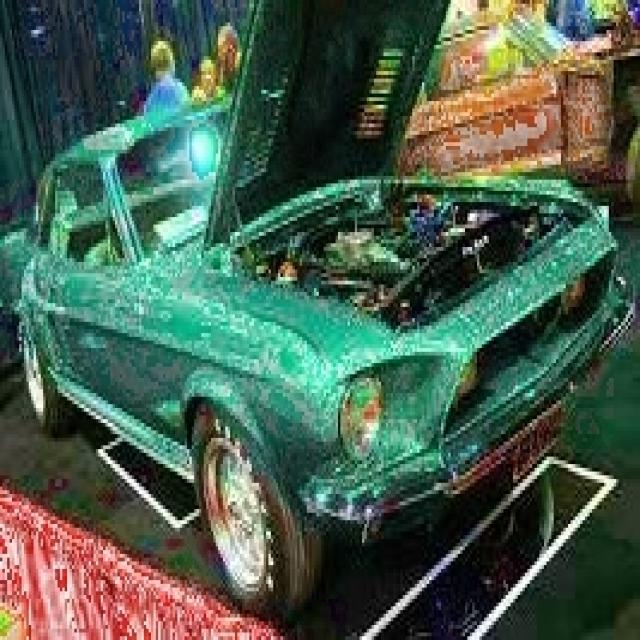green: (2, 2, 640, 597)
